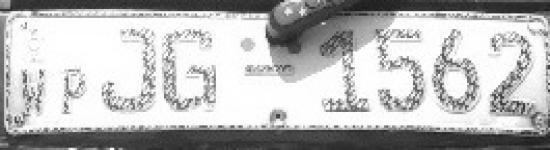1: (312, 22, 374, 118)
2: (488, 30, 538, 124)
5: (376, 20, 432, 116)
6: (435, 29, 484, 124)
G: (161, 27, 223, 111), (239, 59, 303, 82)
J: (97, 23, 159, 116)
P: (60, 65, 91, 117)
W: (17, 66, 55, 118)
